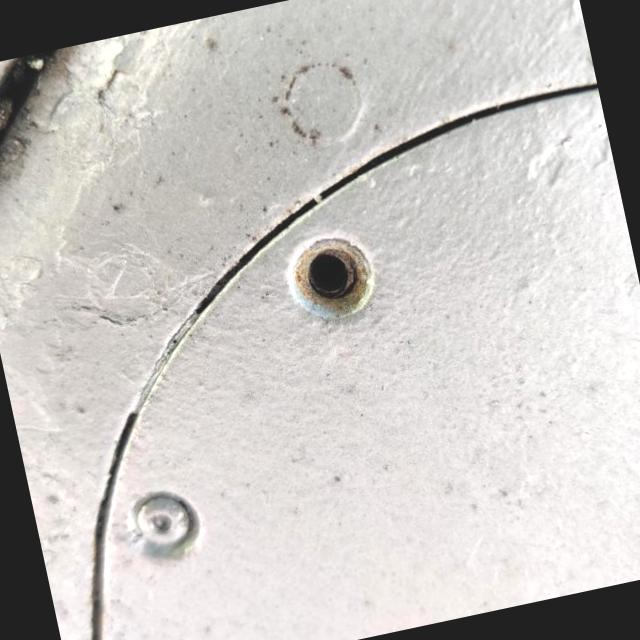Missing Fastener: (281, 228, 381, 324)
